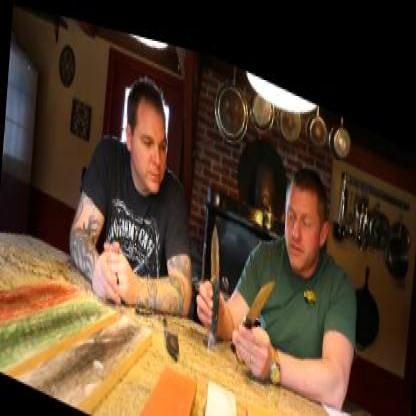knife: (229, 241, 280, 349), (193, 196, 230, 310)
